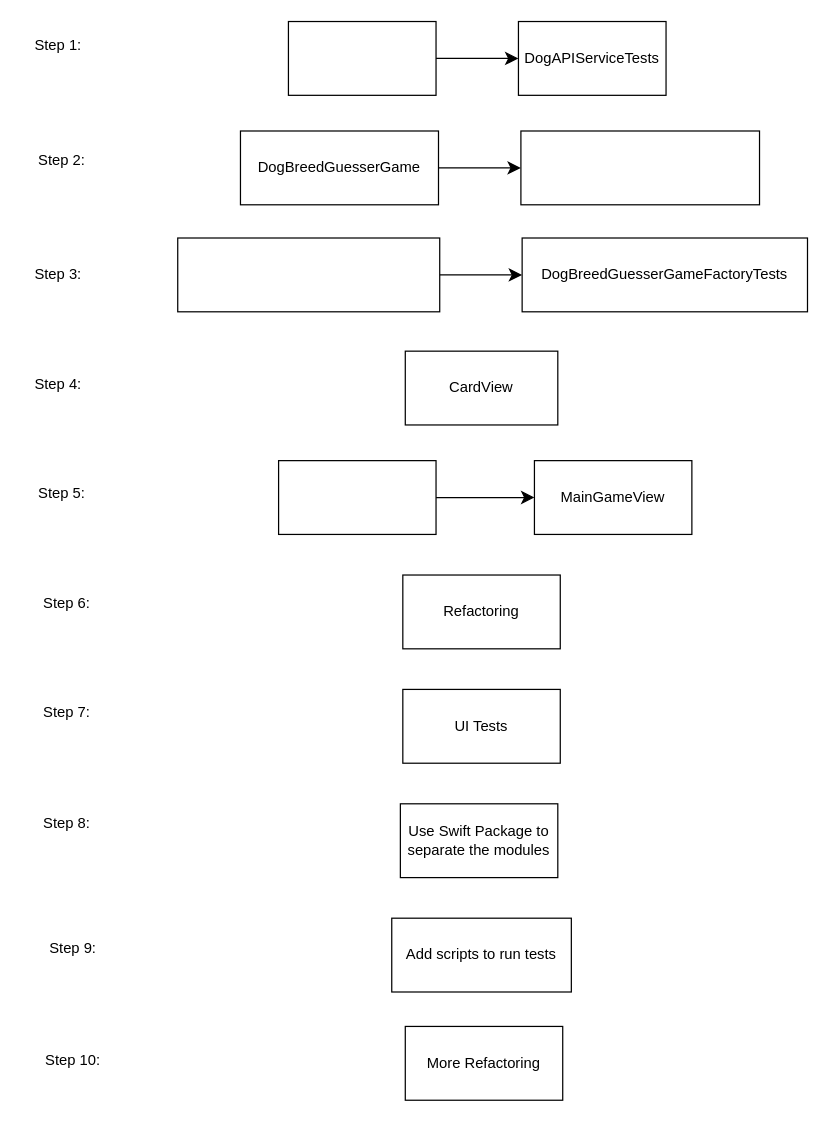
Image size: 829x1122. Some labels were removed from this diagram. The centre of each missing label's shape, as x and y in pixels:
DogAPIService: point 361,57
DogBreedGuesserGameFactory: point 308,274
DogBreedGuesserGameTests: point 640,167
ProgressTracker: point 356,496
